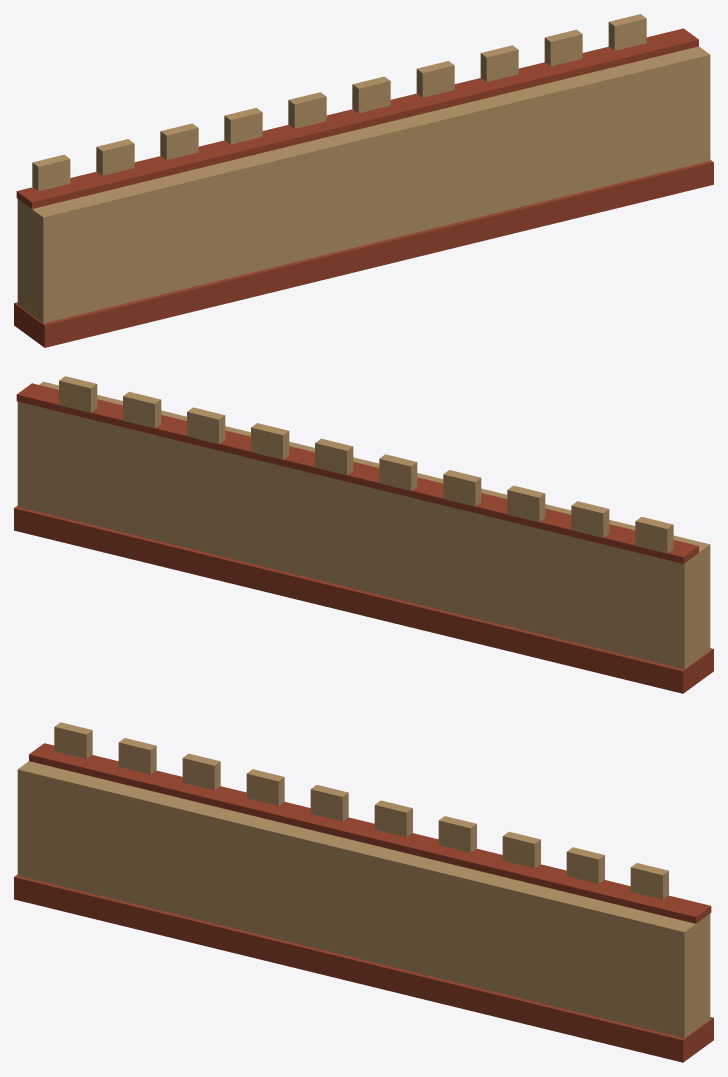
File: cat_wall_broken.glb
3 views of the same model, one above another, from view 1: azimuth 30°, elevation 25°; view 2: azimuth 150°, elevation 25°; view 3: azimuth 330°, elevation 25° (orthographic).
Visible parts, largest first — view 1: cat_wall_piece6, cat_wall_piece4, cat_wall_piece7, cat_wall_piece1, cat_wall_piece9, cat_wall_piece13, cat_wall_piece5, cat_wall_piece0, cat_wall_piece3, cat_wall_piece8, cat_wall_piece10, cat_wall_piece2 (+1 smaller); view 2: cat_wall_piece1, cat_wall_piece6, cat_wall_piece7, cat_wall_piece9, cat_wall_piece3, cat_wall_piece2, cat_wall_piece4, cat_wall_piece11, cat_wall_piece5, cat_wall_piece12, cat_wall_piece10, cat_wall_piece8 (+1 smaller); view 3: cat_wall_piece7, cat_wall_piece4, cat_wall_piece1, cat_wall_piece6, cat_wall_piece9, cat_wall_piece13, cat_wall_piece5, cat_wall_piece0, cat_wall_piece3, cat_wall_piece8, cat_wall_piece10, cat_wall_piece2 (+1 smaller).
Boxes of the visible parts, x1=… form: cat_wall_piece6: x1=14, y1=139, x2=168, y2=347; cat_wall_piece4: x1=217, y1=110, x2=370, y2=296; cat_wall_piece7: x1=597, y1=14, x2=713, y2=212; cat_wall_piece1: x1=401, y1=45, x2=551, y2=250; cat_wall_piece9: x1=525, y1=29, x2=609, y2=227; cat_wall_piece13: x1=82, y1=216, x2=212, y2=338; cat_wall_piece5: x1=142, y1=155, x2=254, y2=323; cat_wall_piece0: x1=143, y1=126, x2=237, y2=226; cat_wall_piece3: x1=240, y1=81, x2=434, y2=168; cat_wall_piece8: x1=332, y1=131, x2=412, y2=270; cat_wall_piece10: x1=374, y1=161, x2=456, y2=267; cat_wall_piece2: x1=352, y1=76, x2=466, y2=207; cat_wall_piece1: x1=175, y1=407, x2=330, y2=607; cat_wall_piece6: x1=557, y1=501, x2=713, y2=693; cat_wall_piece7: x1=14, y1=376, x2=122, y2=552; cat_wall_piece9: x1=96, y1=391, x2=188, y2=572; cat_wall_piece3: x1=327, y1=440, x2=459, y2=594; cat_wall_piece2: x1=289, y1=438, x2=416, y2=621; cat_wall_piece4: x1=417, y1=470, x2=507, y2=639; cat_wall_piece11: x1=530, y1=563, x2=649, y2=685; cat_wall_piece5: x1=461, y1=534, x2=565, y2=664; cat_wall_piece12: x1=480, y1=487, x2=575, y2=603; cat_wall_piece10: x1=316, y1=542, x2=420, y2=629; cat_wall_piece8: x1=359, y1=458, x2=440, y2=634; cat_wall_piece7: x1=566, y1=863, x2=713, y2=1062; cat_wall_piece4: x1=208, y1=769, x2=344, y2=976; cat_wall_piece1: x1=413, y1=816, x2=552, y2=1019; cat_wall_piece6: x1=14, y1=722, x2=169, y2=908; cat_wall_piece9: x1=508, y1=847, x2=630, y2=1033; cat_wall_piece13: x1=52, y1=821, x2=186, y2=922; cat_wall_piece5: x1=111, y1=801, x2=224, y2=950; cat_wall_piece0: x1=126, y1=753, x2=219, y2=860; cat_wall_piece3: x1=269, y1=773, x2=408, y2=900; cat_wall_piece8: x1=329, y1=830, x2=386, y2=979; cat_wall_piece10: x1=344, y1=914, x2=430, y2=996; cat_wall_piece2: x1=368, y1=803, x2=440, y2=931.
Size of the model in its own units: 6.27 by 1.43 by 0.5.
